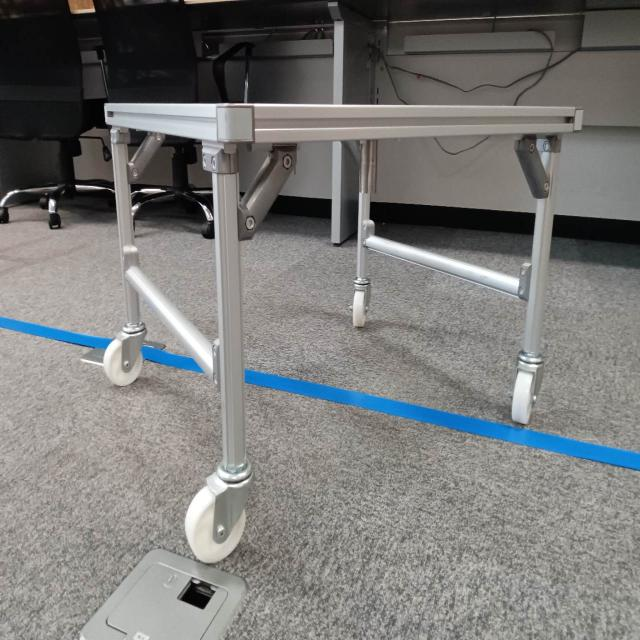door: (229, 109, 560, 236)
side: (108, 104, 230, 377)
